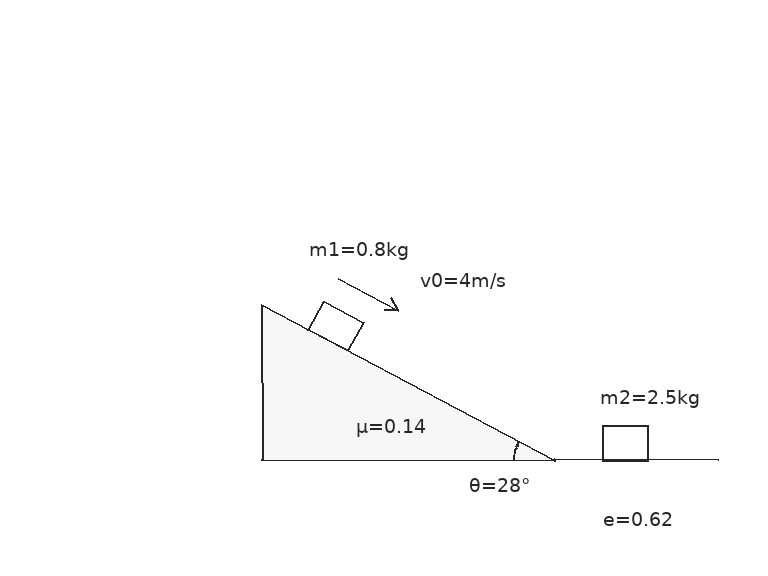block: (307, 299, 365, 352), (600, 424, 650, 462)
ramp: (260, 303, 556, 462)
